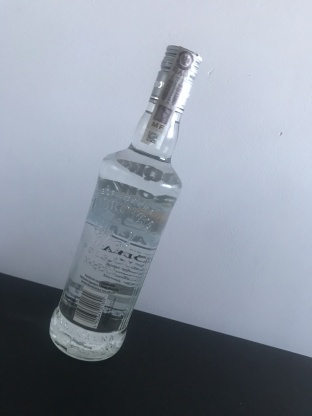nakretka: (146, 41, 203, 118)
